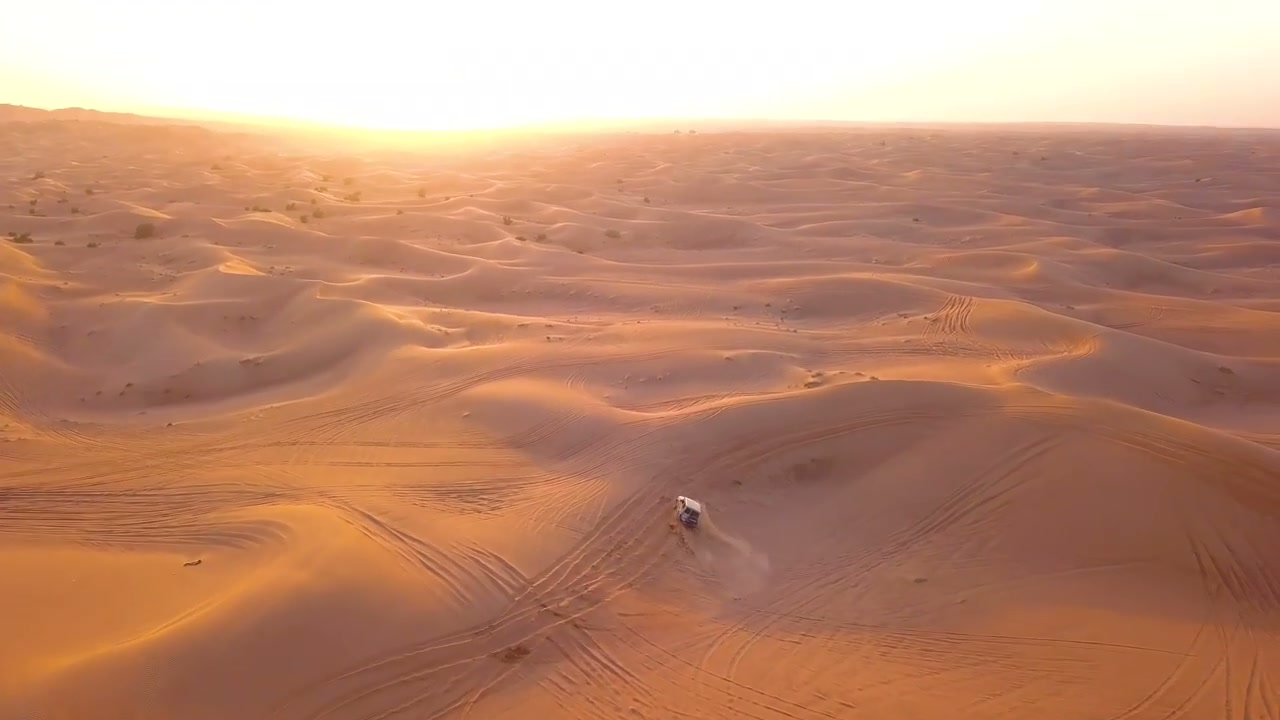vehicle_track: (271, 486, 668, 719), (277, 347, 687, 434), (1108, 503, 1264, 719), (1005, 404, 1279, 503), (881, 433, 1059, 559), (621, 623, 838, 719), (0, 483, 295, 546), (693, 410, 945, 477), (0, 372, 133, 453), (924, 296, 975, 337), (1108, 305, 1165, 330)
